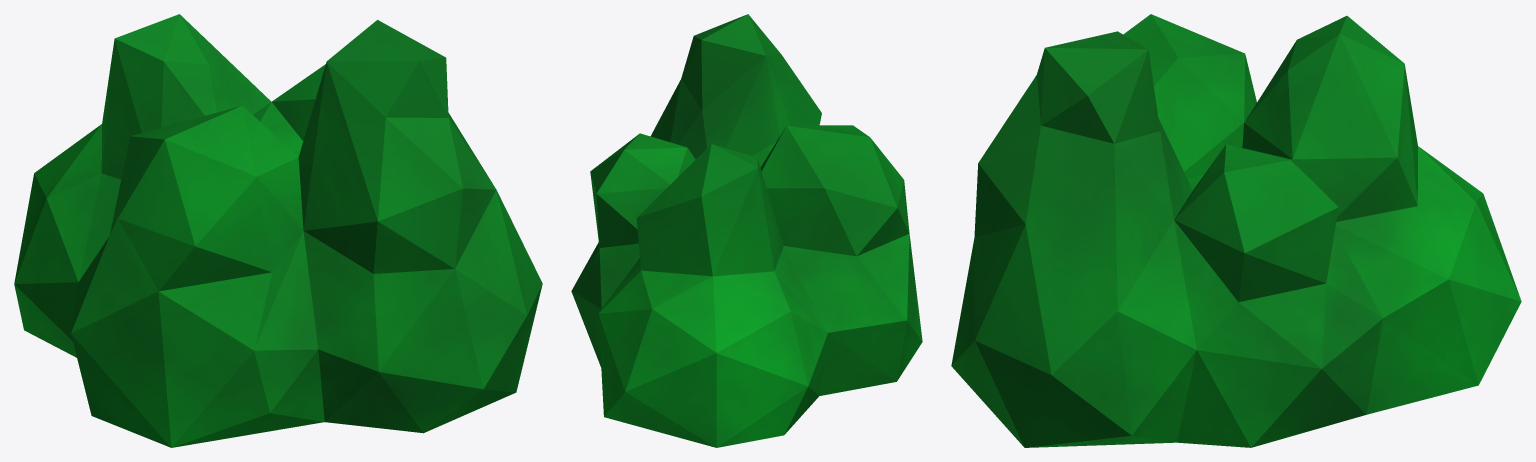
Rendered from bush1.fbx.
3 views of the same model, side by side, from view 1: azimuth 30°, elevation 25°; view 2: azimuth 150°, elevation 25°; view 3: azimuth 270°, elevation 25° (orthographic). The views are drawn at different scales.
Parts seen in each view (by area): view 1: Group1514; view 2: Group1514; view 3: Group1514.
Boxes of the visible parts, x1,y1,x2,y2 form: Group1514: (14, 14, 542, 447); Group1514: (571, 14, 922, 447); Group1514: (951, 14, 1521, 447).
Bounding box in the file's own units: 424 × 355 × 508.
